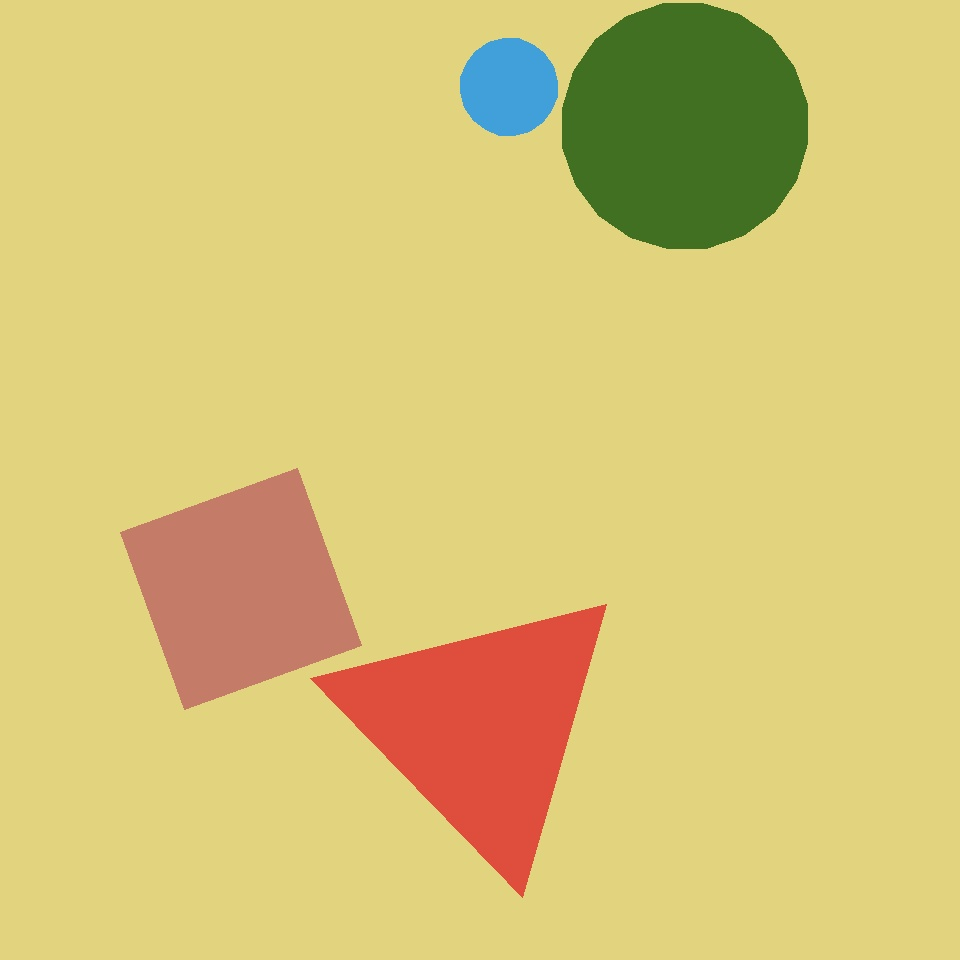circle: (332, 580, 628, 874)
square: (120, 468, 362, 710), (274, 734, 372, 832)
triangle: (387, 535, 700, 848), (256, 531, 508, 782), (562, 4, 807, 248), (139, 279, 318, 458), (617, 197, 788, 368), (460, 38, 558, 136)
